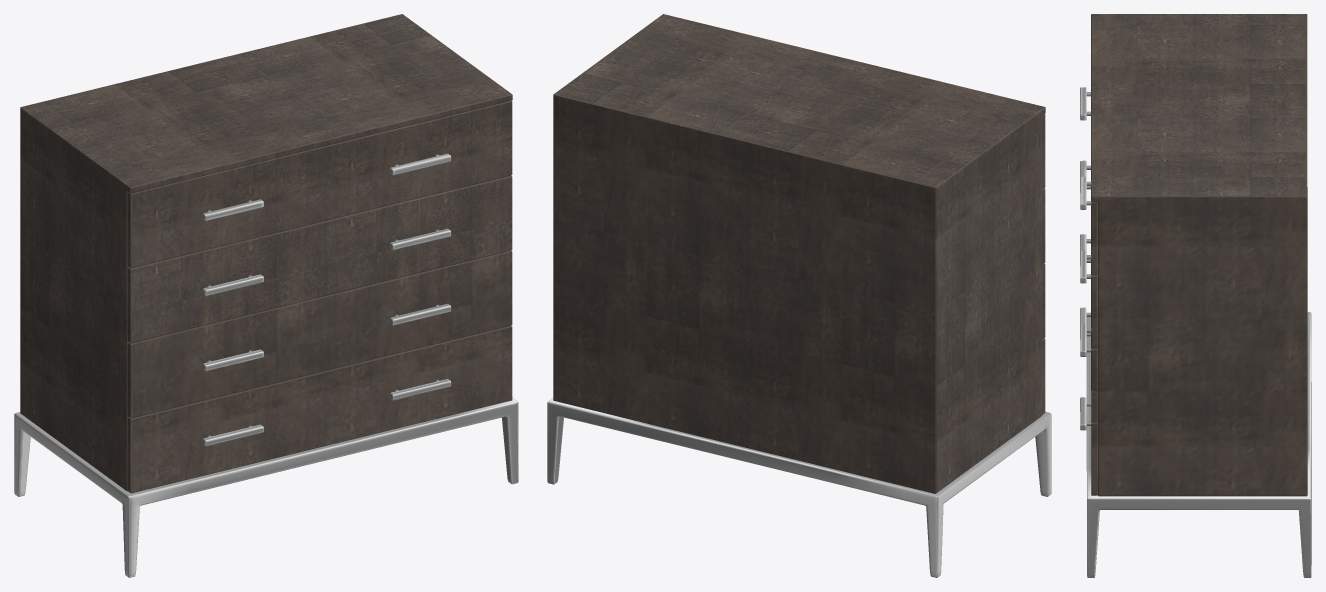
The model's file is raw_model.obj.
3 renders of one model, left to right at view 1: azimuth 30°, elevation 25°; view 2: azimuth 150°, elevation 25°; view 3: azimuth 270°, elevation 25°, orthographic. The views are drawn at different scales.
Visible parts, largest first — view 1: solid_001, solid_002; view 2: solid_001, solid_002; view 3: solid_001, solid_002.
Part boxes in pixels (x1,y1,x2,y2): solid_001: [20, 14, 512, 493]; solid_002: [14, 153, 518, 577]; solid_001: [553, 14, 1045, 493]; solid_002: [547, 398, 1051, 577]; solid_001: [1091, 14, 1307, 496]; solid_002: [1080, 87, 1311, 577].
Bounding box in the file's own units: 1 × 0.9499 × 0.5251.
1 material, 1 textured.
